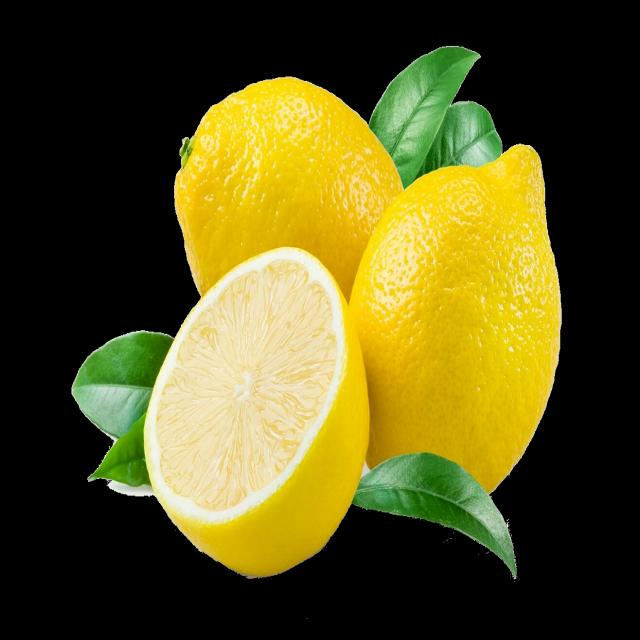lemon: (348, 144, 564, 496), (142, 247, 371, 577), (172, 79, 402, 292)
